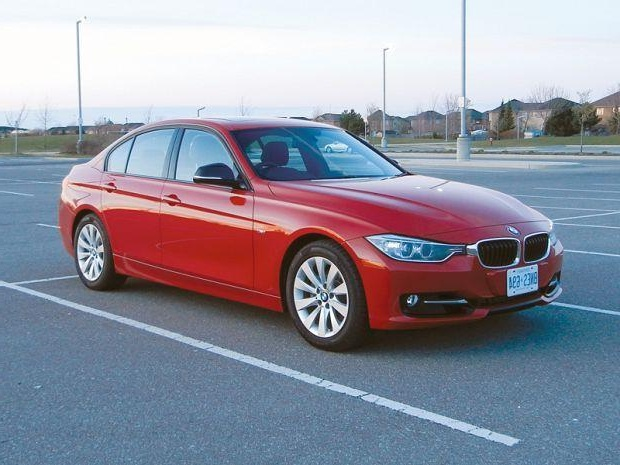car: (39, 97, 581, 367)
